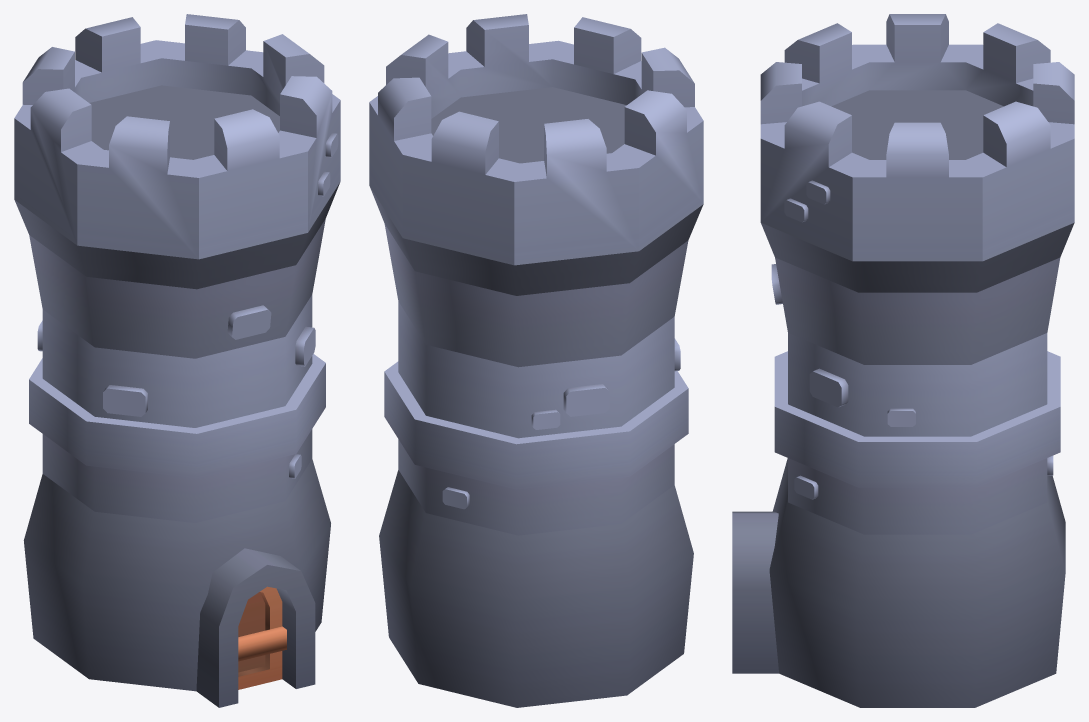
File: kenney-pirate-tower-complete-small.glb
3 renders of one model, left to right at view 1: azimuth 30°, elevation 25°; view 2: azimuth 150°, elevation 25°; view 3: azimuth 270°, elevation 25°, orthographic. The views are drawn at different scales.
Visible parts, largest first — view 1: tower-complete-small; view 2: tower-complete-small; view 3: tower-complete-small.
Part boxes in pixels (bbox=[...]): tower-complete-small: bbox=[14, 14, 340, 707]; tower-complete-small: bbox=[369, 14, 703, 707]; tower-complete-small: bbox=[732, 14, 1074, 707].
Bounding box in the file's own units: 3.35 × 6.78 × 3.66.
Materials: 1 (1 with a texture image).
